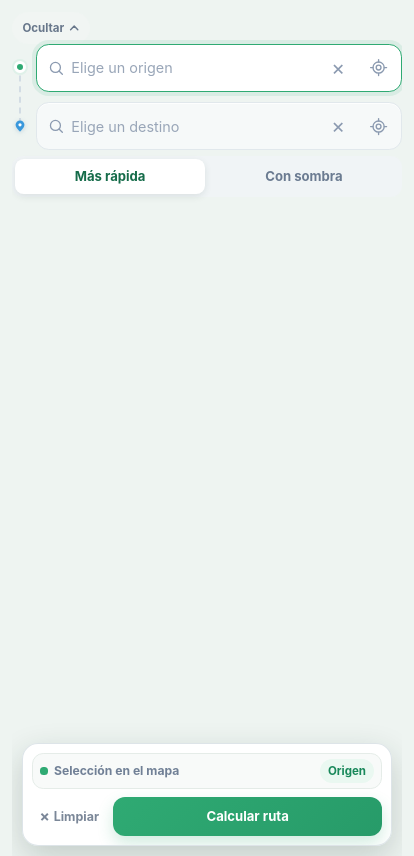
RouteSearchPanel › folds the mobile search panel when the route is calculated
Click the button "Calcular ruta": (248, 816) [113, 797, 382, 836]
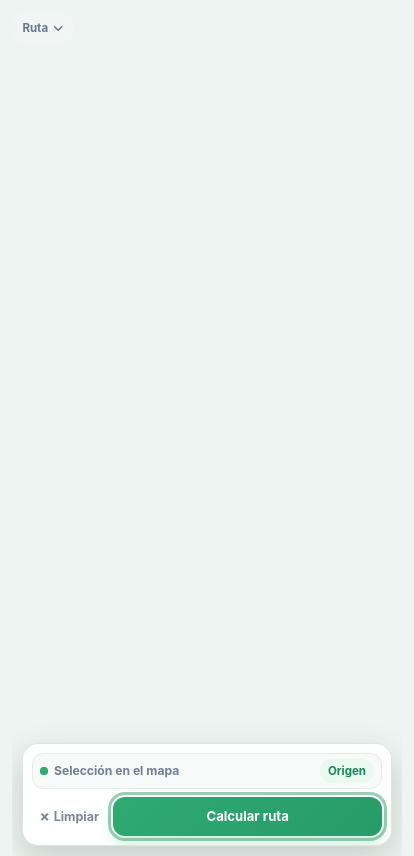
Expected: the button "Ruta" is collapsed, [12, 12, 74, 44]
